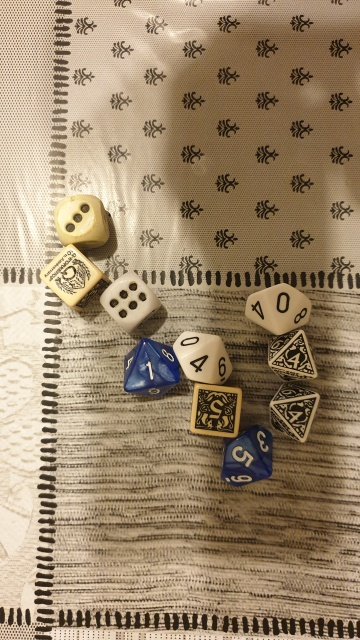d10-1: (110, 332, 181, 401)
d10-10: (240, 279, 312, 338)
d10-4: (171, 323, 235, 386)
d10-5: (213, 419, 274, 487)
d6-3: (51, 190, 112, 250)
d6-6: (100, 272, 164, 330)
d6p-5: (187, 379, 244, 443)
d6p-6: (40, 243, 101, 312)
d8p-4: (261, 383, 324, 446), (263, 328, 328, 385)
